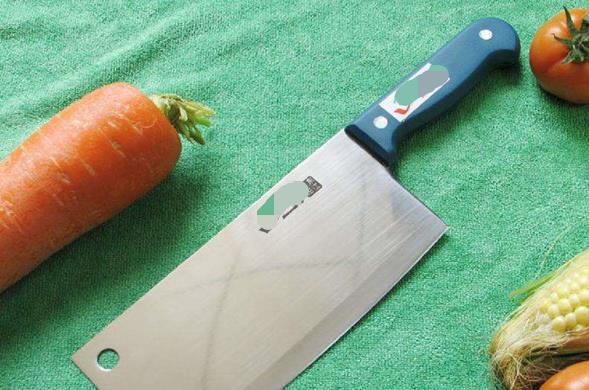knief: (83, 18, 523, 384)
